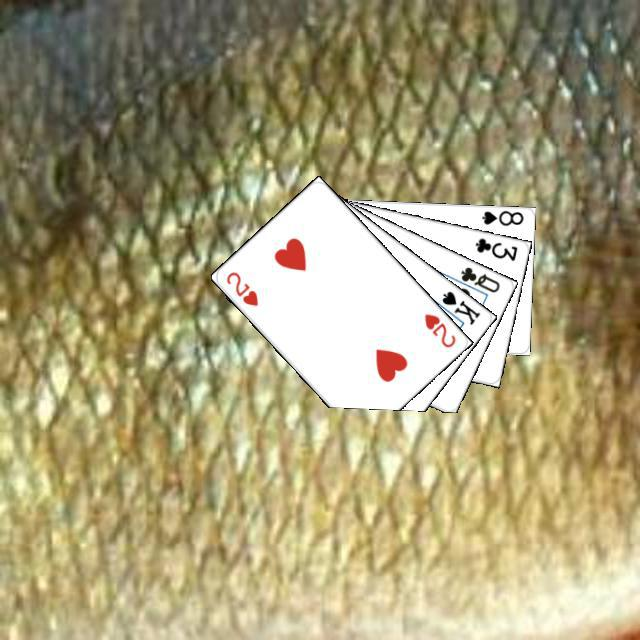2h: (221, 267, 260, 308), (419, 309, 457, 349)
3c: (470, 233, 519, 263)
8s: (477, 206, 525, 227)
Ks: (437, 286, 482, 327)
Qc: (448, 262, 501, 299)
